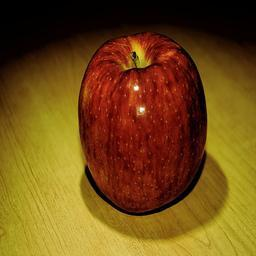apple: (74, 32, 207, 217)
